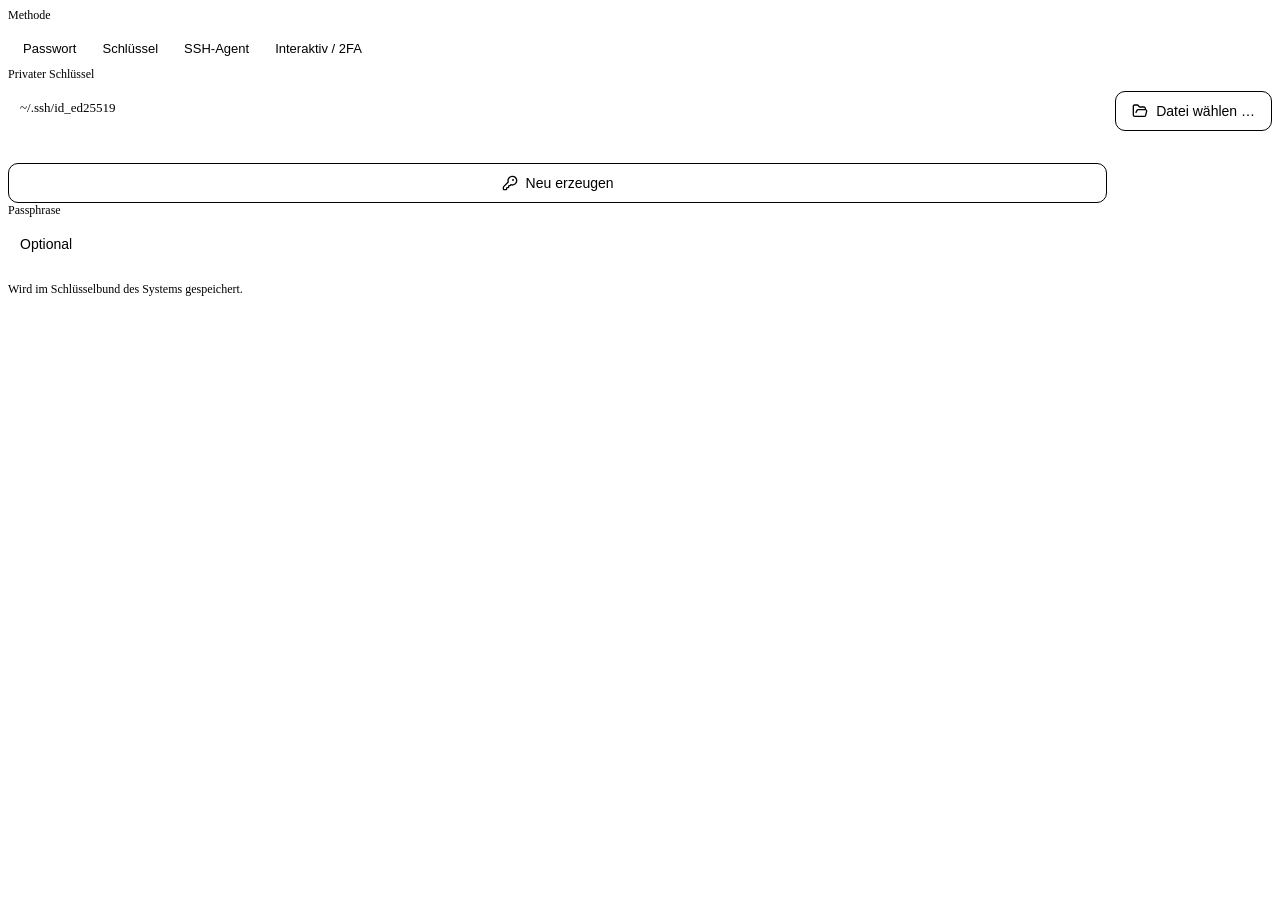
Test: AuthMethodFields › generates a key and takes over its path and passphrase
Click the button "Neu erzeugen" at (558, 183), box [8,163,1107,203]
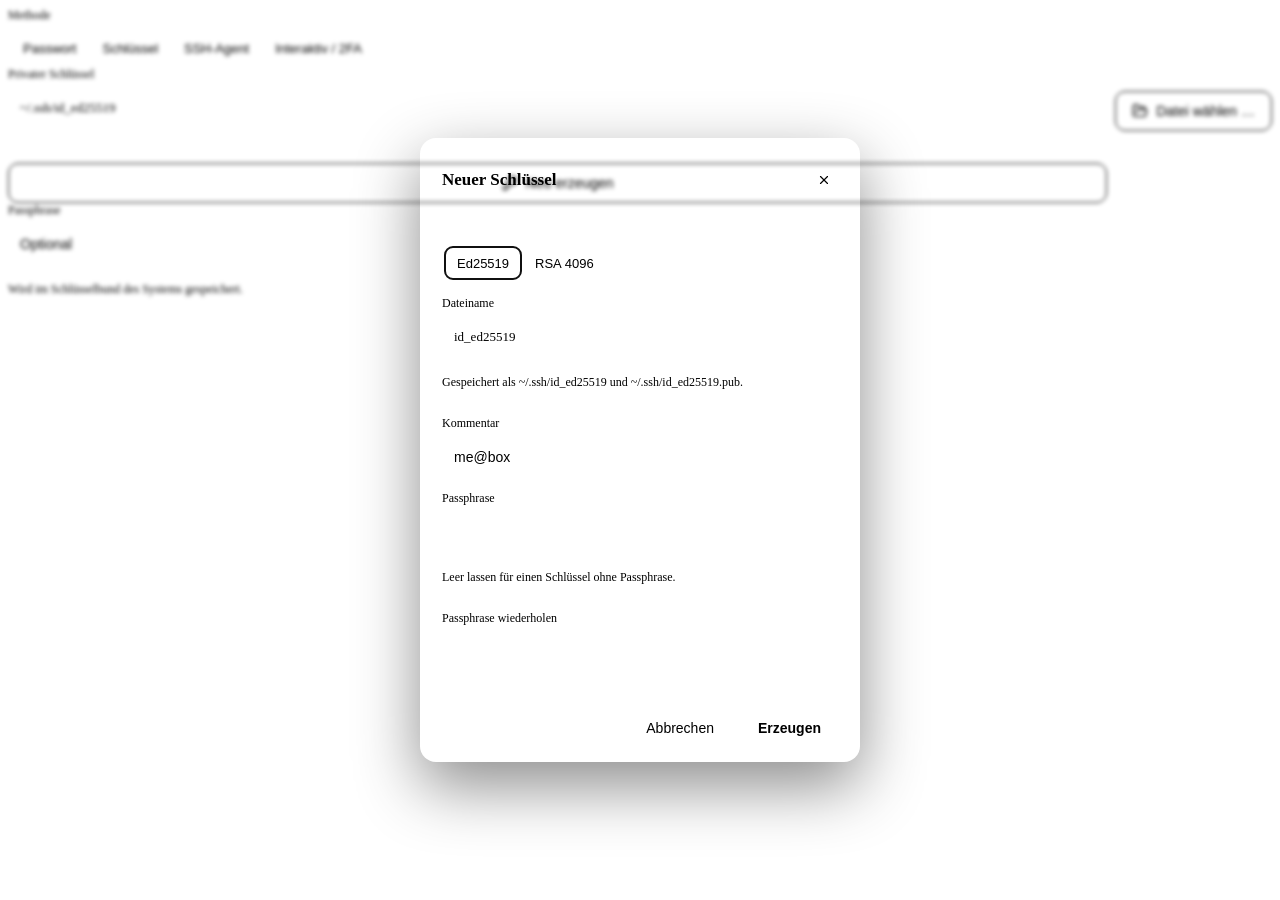
expect the field showing "id_ed25519" is shown: met, box [442,317,860,357]
Type "geheim" into the password field labelled "Passphrase" at (652, 532), box [442,512,862,552]
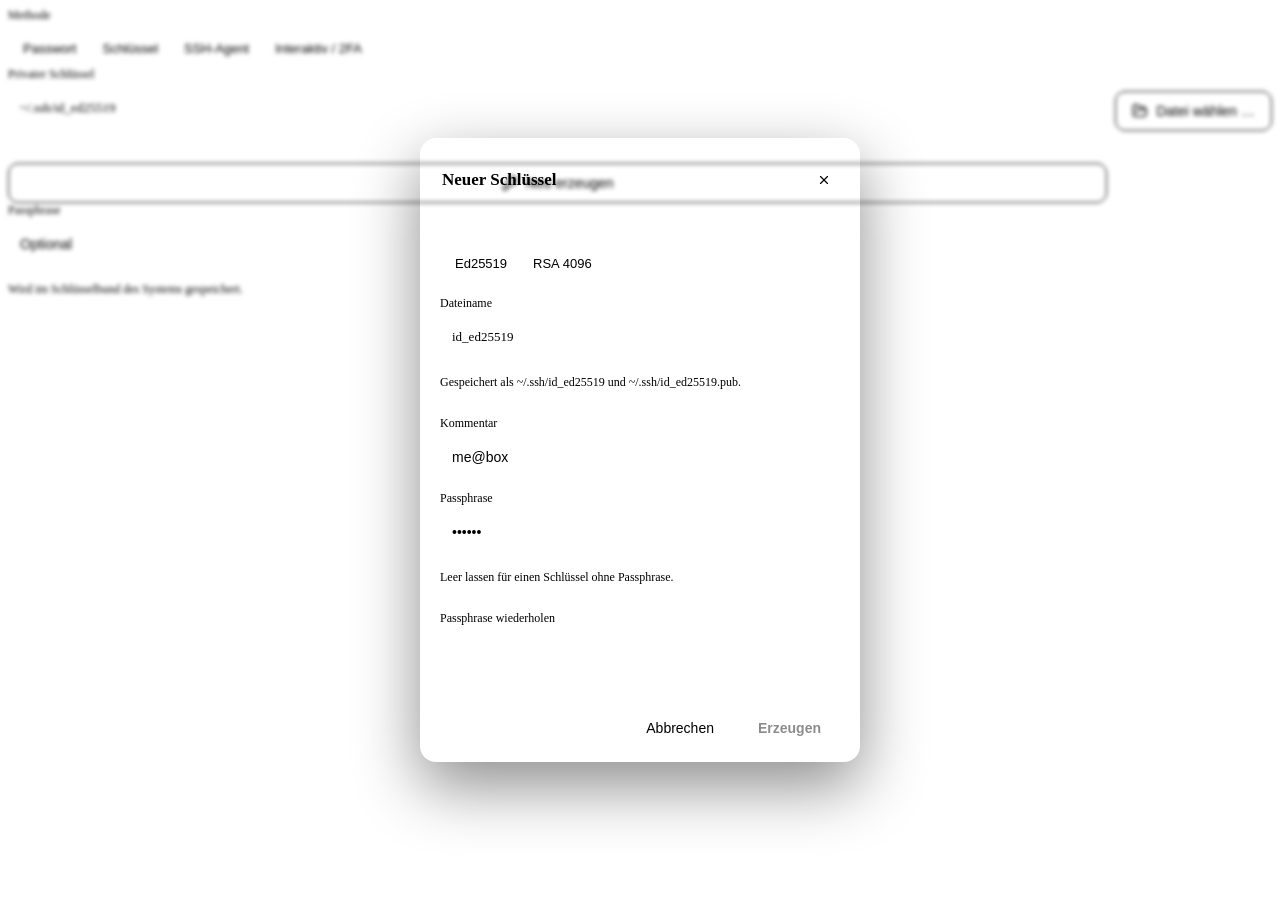
Type "geheim" into the password field labelled "Passphrase wiederholen" at (650, 652), box [440,632,860,672]
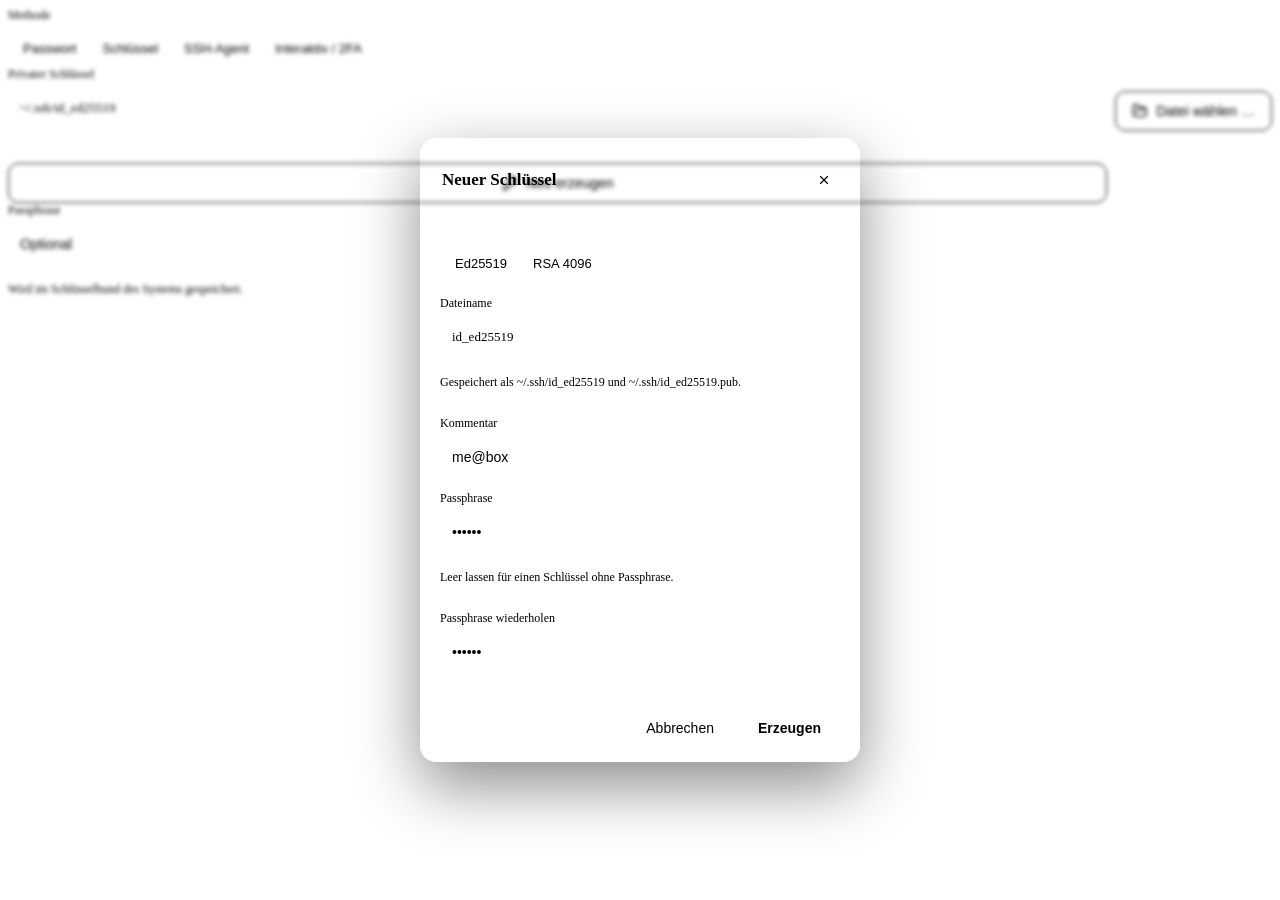
Click the button "Erzeugen" at (790, 728), box [741,708,838,748]
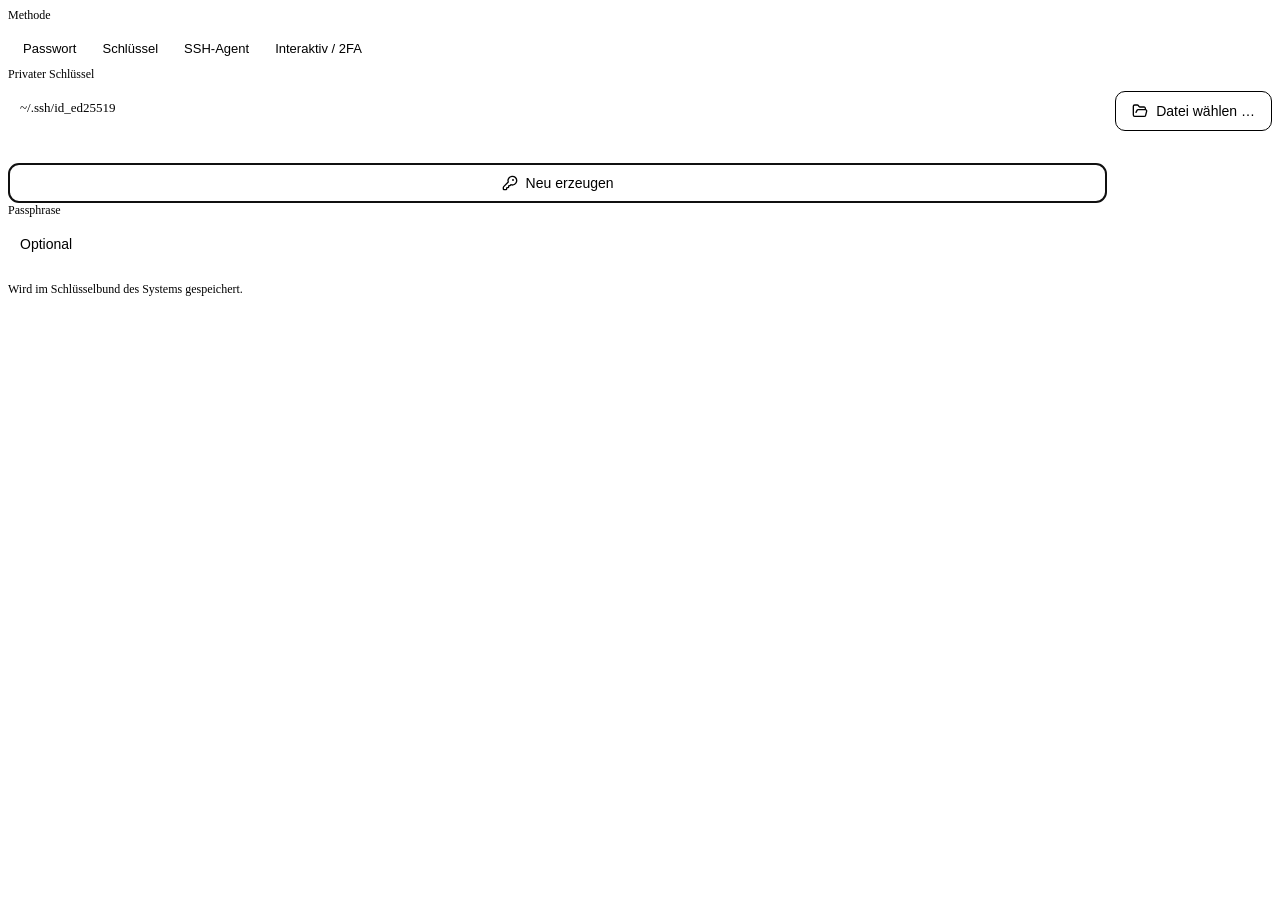
expect the dialog is gone: met
